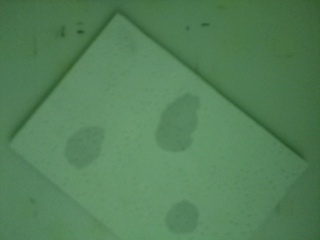Water_detected: (154, 102, 200, 155), (73, 126, 112, 166), (168, 197, 194, 222)
